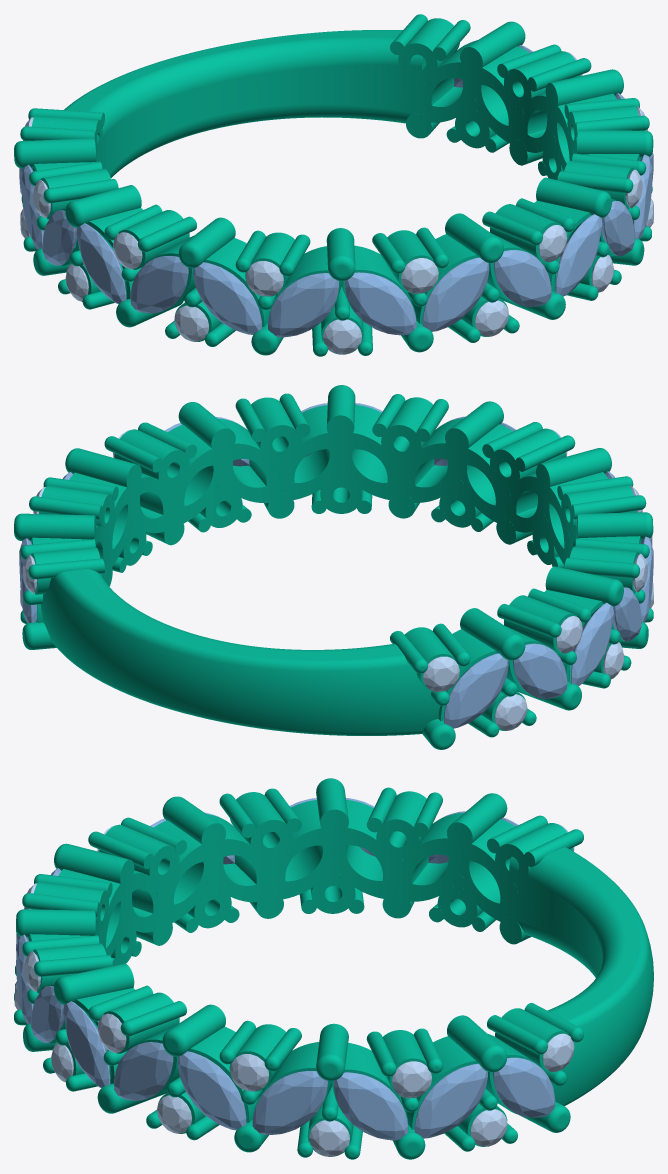
The picture shows the model from 3 angles, top to bottom: view 1: azimuth 30°, elevation 25°; view 2: azimuth 150°, elevation 25°; view 3: azimuth 270°, elevation 25°; orthographic projection. The views are drawn at different scales.
Parts seen in each view (by area): view 1: VR-R2914 - 22-4-25 RPT(base).3dm, Bezel (×23), Diamond_Marquise (×12), Head Prong (×20), Diamond_Round (×9); view 2: VR-R2914 - 22-4-25 RPT(base).3dm, Bezel (×27), Head Prong (×20), Diamond_Marquise (×6), Diamond_Round (×4); view 3: Bezel (×27), VR-R2914 - 22-4-25 RPT(base).3dm, Diamond_Marquise (×9), Head Prong (×20), Diamond_Round (×8).
Part boxes in pixels (x1,y1,x2,y2): VR-R2914 - 22-4-25 RPT(base).3dm: [14, 21, 653, 355]; Bezel (×23): [32, 18, 638, 326]; Diamond_Marquise (×12): [21, 154, 652, 337]; Head Prong (×20): [20, 14, 649, 276]; Diamond_Round (×9): [65, 225, 613, 354]; VR-R2914 - 22-4-25 RPT(base).3dm: [14, 385, 653, 749]; Bezel (×27): [31, 397, 639, 721]; Head Prong (×20): [20, 393, 649, 673]; Diamond_Marquise (×6): [19, 536, 653, 728]; Diamond_Round (×4): [423, 616, 624, 730]; Bezel (×27): [33, 791, 573, 1129]; VR-R2914 - 22-4-25 RPT(base).3dm: [16, 778, 653, 1159]; Diamond_Marquise (×9): [16, 934, 555, 1140]; Head Prong (×20): [22, 787, 583, 1076]; Diamond_Round (×8): [51, 1013, 574, 1156].
Size of the model in its own units: 2.86 by 0.5489 by 2.74.
